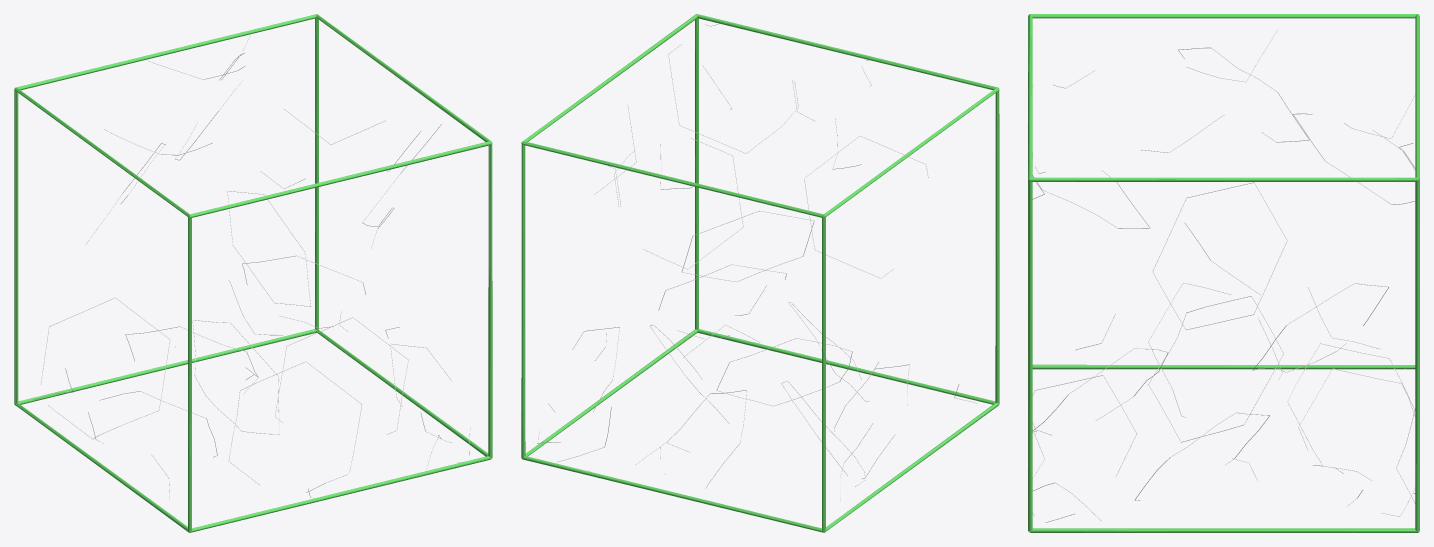
File: dislocation100.glb
The picture shows the model from 3 angles, left to right: view 1: azimuth 30°, elevation 25°; view 2: azimuth 150°, elevation 25°; view 3: azimuth 270°, elevation 25°; orthographic projection. The views are drawn at different scales.
Parts seen in each view (by area): view 1: Shape_IndexedLineSet, Shape_IndexedLineSet.001; view 2: Shape_IndexedLineSet, Shape_IndexedLineSet.001; view 3: Shape_IndexedLineSet, Shape_IndexedLineSet.001.
Boxes of the visible parts, <box> form: Shape_IndexedLineSet: <box>14,14,492,532</box>; Shape_IndexedLineSet.001: <box>33,34,470,500</box>; Shape_IndexedLineSet: <box>521,14,999,532</box>; Shape_IndexedLineSet.001: <box>537,23,976,502</box>; Shape_IndexedLineSet: <box>1028,14,1419,532</box>; Shape_IndexedLineSet.001: <box>1032,30,1415,522</box>.
Bounding box in the file's own units: 10.12 × 10.12 × 10.12.
